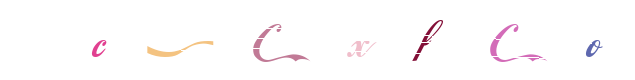1: (276, 0, 356, 80), (386, 0, 466, 80)
9: (256, 0, 336, 80)
C: (132, 0, 212, 80)
F: (356, 0, 436, 80)
O: (552, 0, 632, 80)
X: (321, 0, 401, 80)
